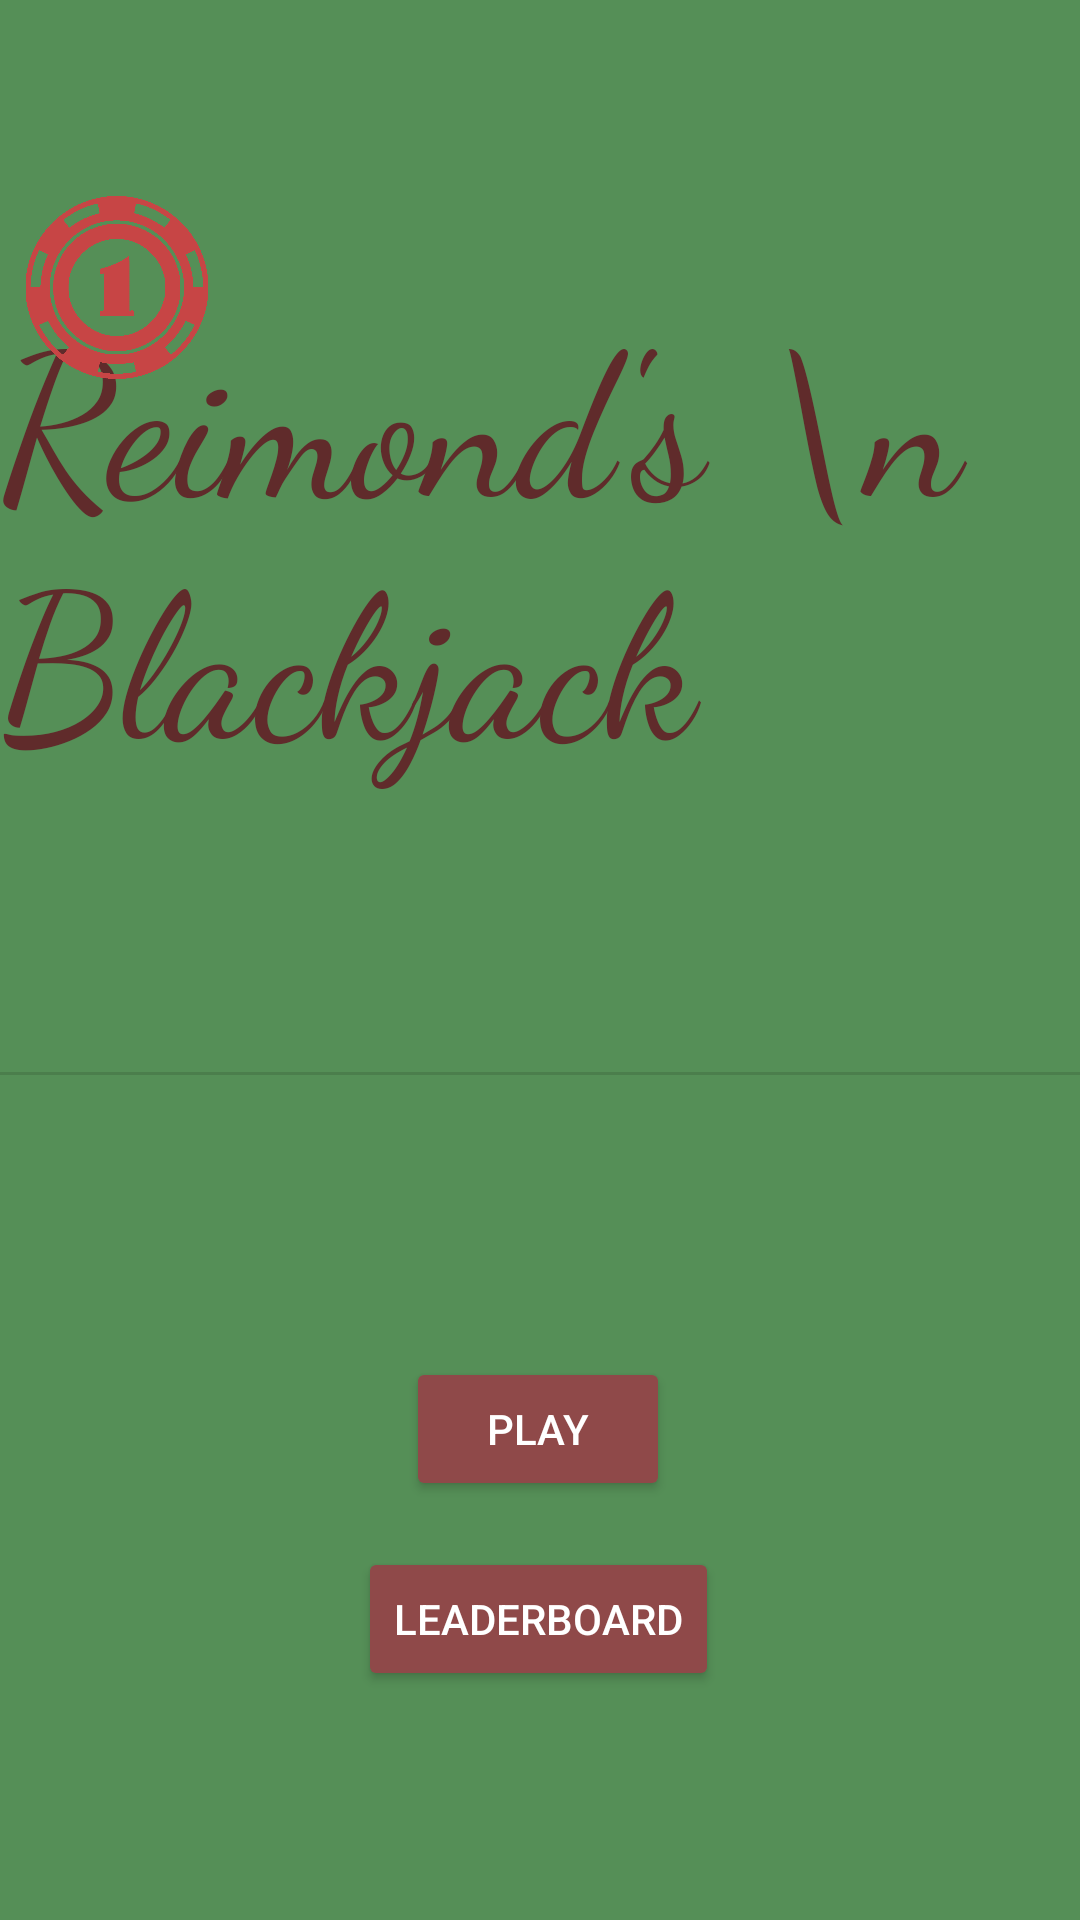

Where to tap for icons on this 1080px x 1920px app screen, as (x,y):
chip: (114,287)
